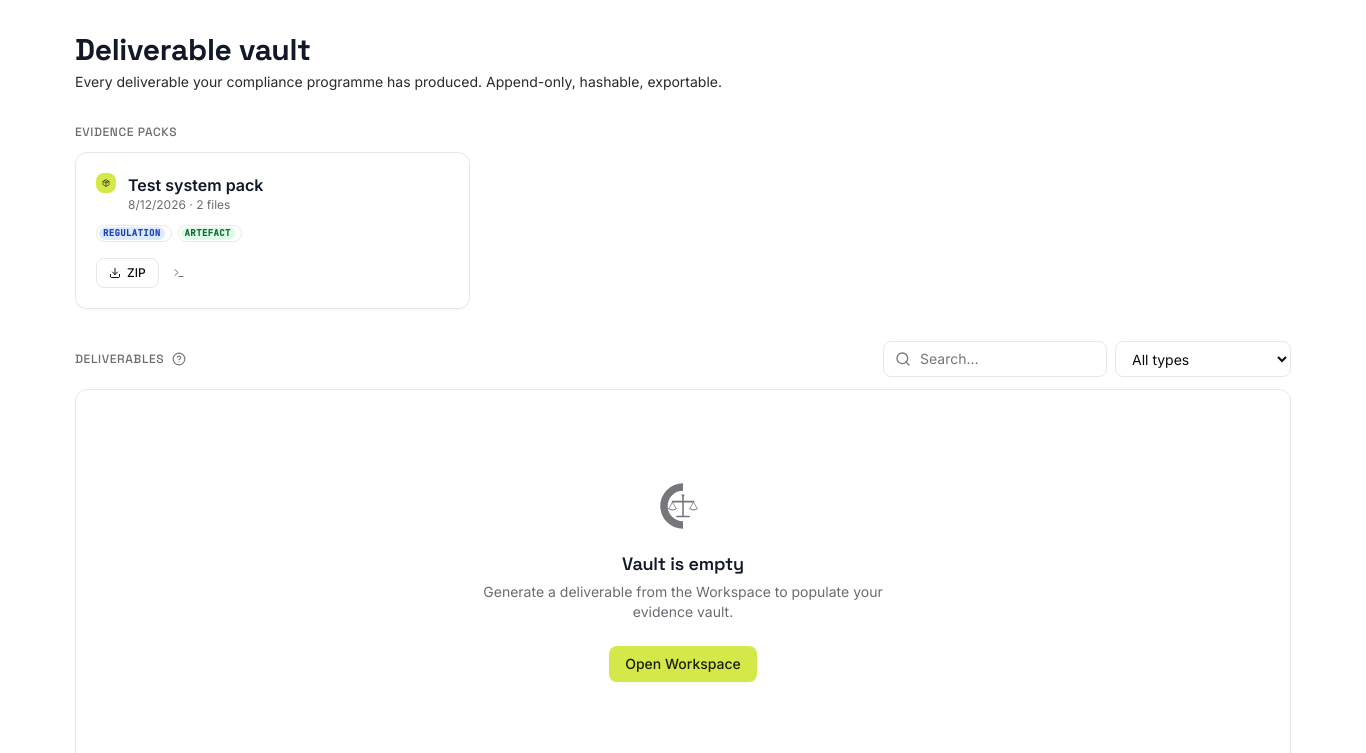
Vault pack detail › opens pack detail from card click and renders signature info
Click the text "Test system pack" at {"x": 196, "y": 185}, box [128,175,263,195]
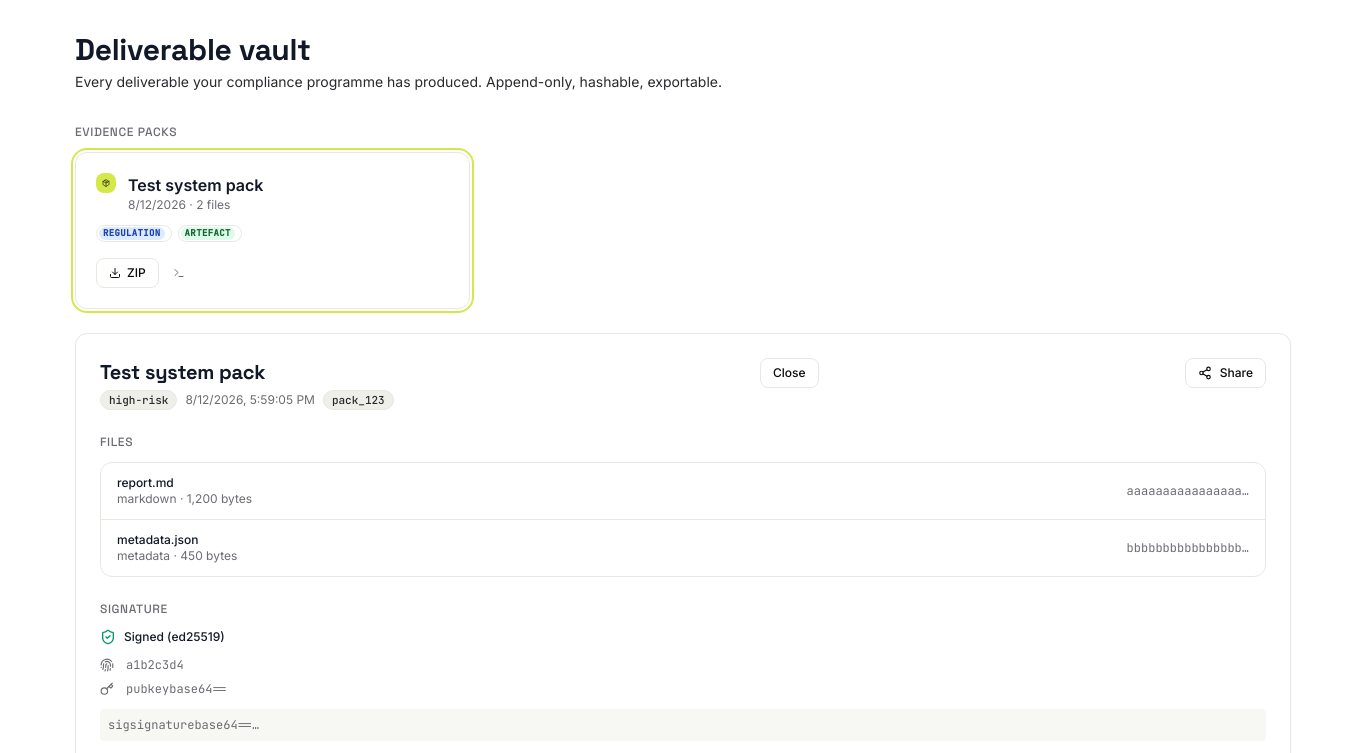
Check: the heading "Signature" is shown, box [100,601,168,617]
Check: the text "Signed (ed25519)" is shown, box [124,629,225,645]
Check: the text "a1b2c3d4" is shown, box [126,657,184,673]
